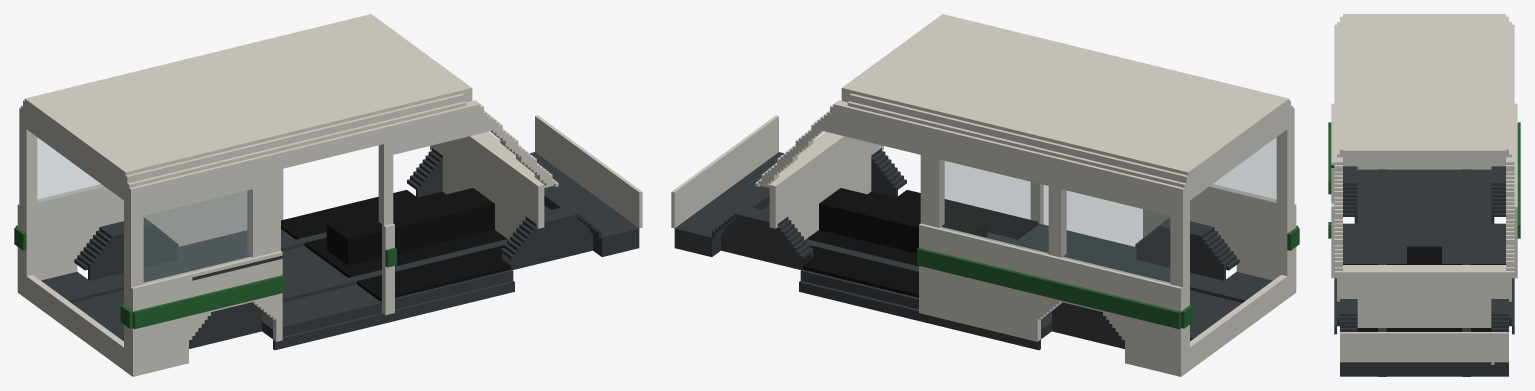
The model's file is camper_van_shell.glb.
3 renders of one model, left to right at view 1: azimuth 30°, elevation 25°; view 2: azimuth 150°, elevation 25°; view 3: azimuth 270°, elevation 25°, orthographic. The views are drawn at different scales.
Parts seen in each view (by area): view 1: body:compound; view 2: body:compound; view 3: body:compound.
Part boxes in pixels (x1,y1,x2,y2): body:compound: (14, 14, 642, 376); body:compound: (671, 14, 1299, 376); body:compound: (1328, 14, 1520, 376).
Size of the model in its own units: 5.19 by 2 by 2.06.
